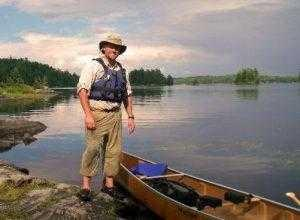kayak: (115, 151, 299, 218)
